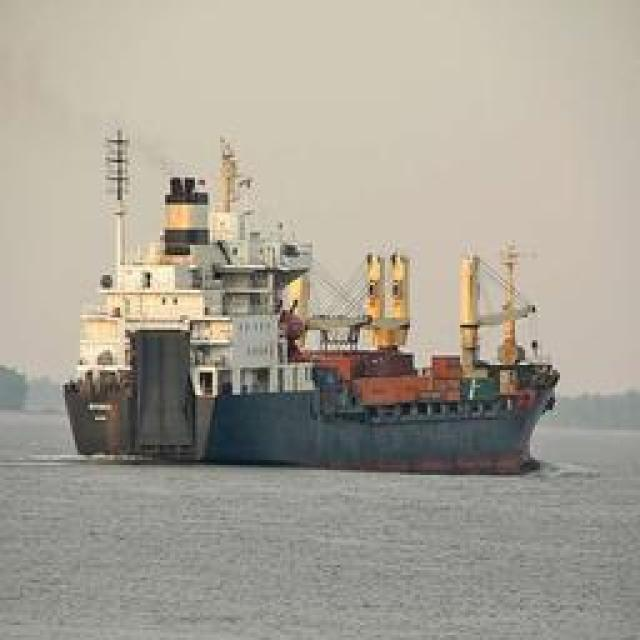CIV_Ship: (196, 220, 562, 480)
